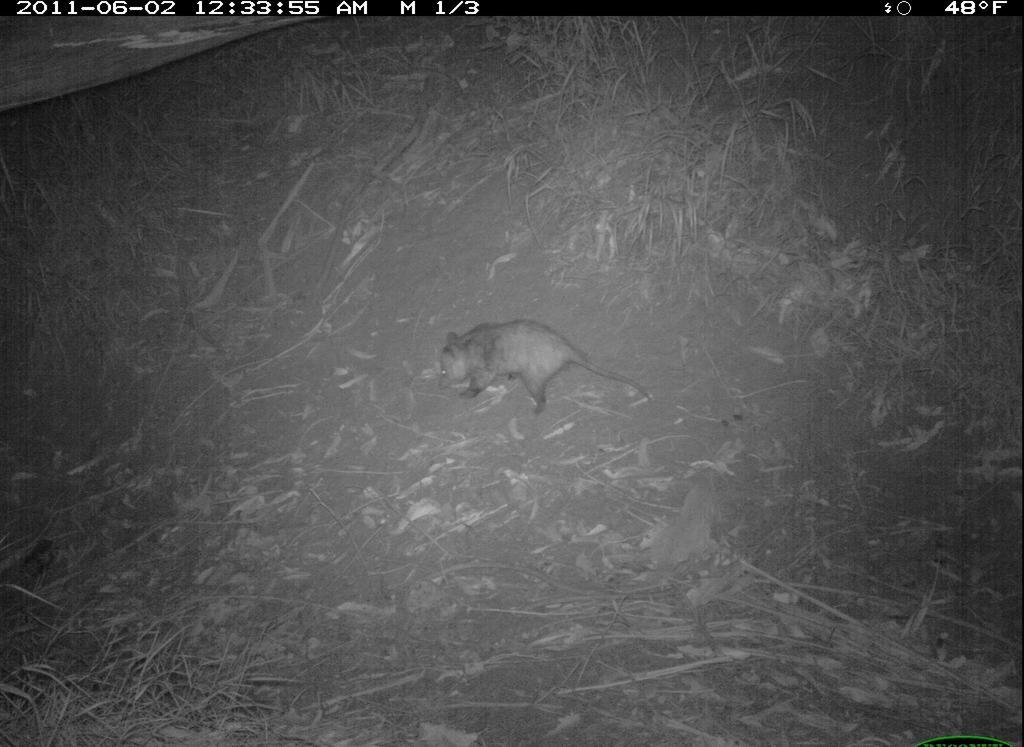opossum: (433, 308, 652, 427)
